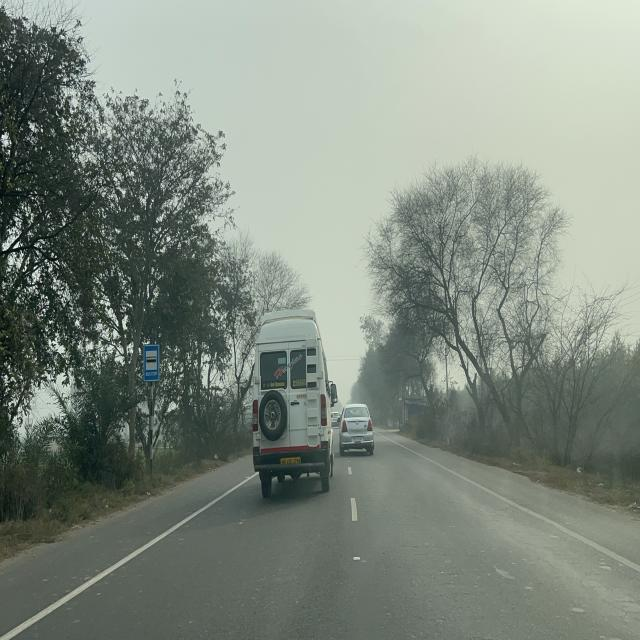INFORMATION: (143, 342, 160, 383)
